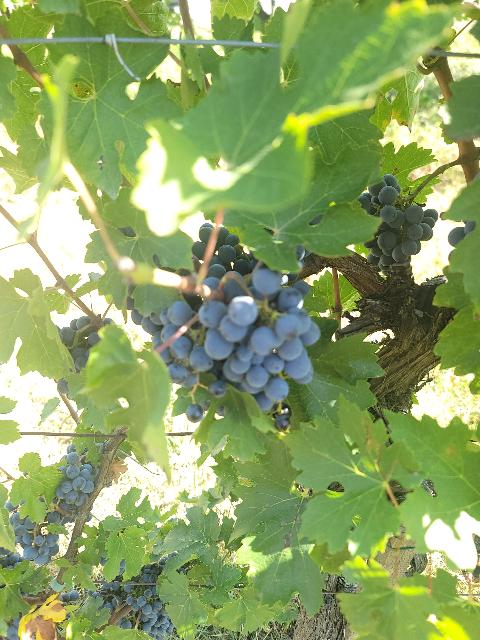grapes: (199, 268, 320, 410), (358, 175, 439, 274)
